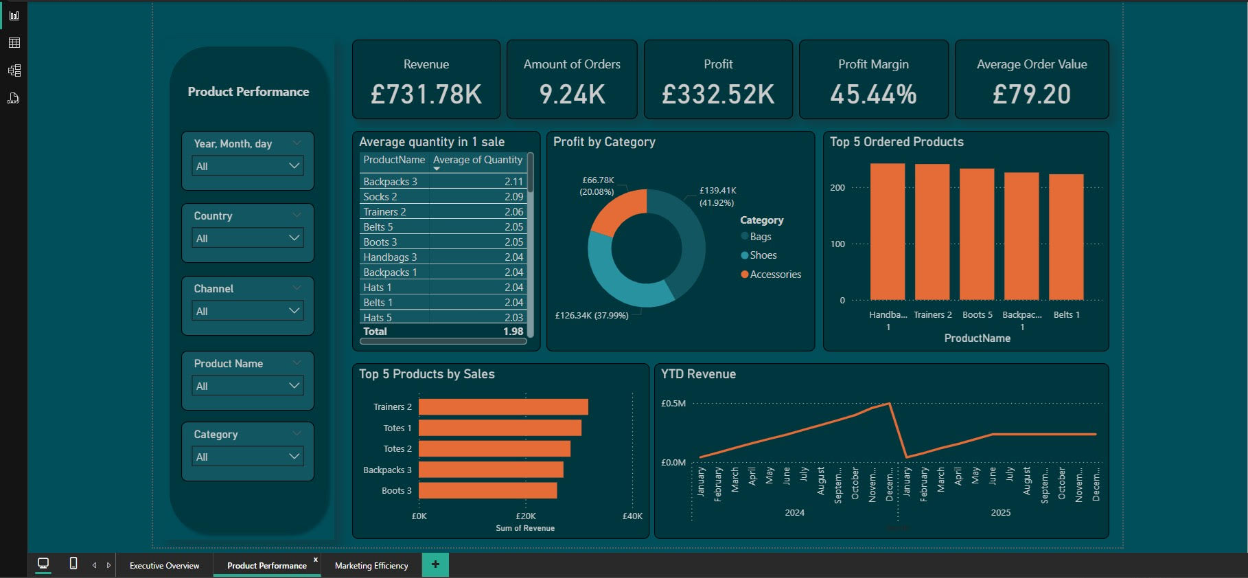

What the dashboard file says about the page in this screenshot:
{"tool":"powerbi","page":{"name":"Product Performance","canvas":[1280,720],"ordinal":1},"visuals":[{"type":"shape","box":[12.6,49.6,226.6,660.4],"z":0},{"type":"slicer","title":"Date","fields":{"Values":["DimDate.Year Hierarchy.Year","DimDate.Year Hierarchy.Month","DimDate.Year Hierarchy.day"]},"box":[37.2,170.5,175.9,78.9],"z":1000},{"type":"slicer","fields":{"Values":["ecom_orders.Country"]},"box":[37.2,265.7,175.9,78.9],"z":2000},{"type":"slicer","fields":{"Values":["ecom_orders.Channel"]},"box":[37.2,361.8,175.9,78.9],"z":3000},{"type":"slicer","fields":{"Values":["ecom_products.ProductName"]},"box":[37.2,460.7,175.9,78.9],"z":4000},{"type":"slicer","fields":{"Values":["ecom_products.Category"]},"box":[37.2,554.1,175.9,78.9],"z":5000},{"type":"textbox","box":[26.3,102.1,199.4,45.7],"z":6000},{"type":"clusteredBarChart","title":"Top 5 Products by Sales","fields":{"Category":["ecom_products.ProductName"],"Y":["Sum(ecom_orders.Revenue)"]},"box":[262.6,476.6,392.9,232.5],"z":8000},{"type":"clusteredColumnChart","title":"Top 5 Ordered Products","fields":{"Category":["ecom_products.ProductName"],"Y":["CountNonNull(ecom_orders.OrderID)"]},"box":[885.1,170.2,378.4,290.8],"z":9000},{"type":"cardVisual","fields":{"Data":["Count(ecom_orders.OrderID)"]},"box":[466.9,49.6,173.1,105],"z":10000},{"type":"cardVisual","fields":{"Data":["ecom_orders.Profit"]},"box":[648.8,49.6,197.4,105],"z":11000},{"type":"cardVisual","fields":{"Data":["ecom_orders.Profit Margin"]},"box":[853.3,49.9,197.7,105.2],"z":12000},{"type":"cardVisual","fields":{"Data":["Sum(ecom_orders.Revenue)"]},"box":[262.6,49.6,196.5,105],"z":13000},{"type":"tableEx","title":"Average quantity in 1 sale","fields":{"Values":["ecom_products.ProductName","Avg(ecom_orders.Quantity)"]},"box":[262.6,170.2,249,290.8],"z":14000},{"type":"cardVisual","fields":{"Data":["ecom_orders.Average Order Value"]},"box":[1059.2,49.6,204.3,105],"z":15000},{"type":"donutChart","fields":{"Y":["ecom_orders.Profit"],"Category":["ecom_products.Category"]},"box":[519.4,170.2,355,290.8],"z":16000},{"type":"lineChart","title":"YTD Revenue","fields":{"Category":["DimDate.Year","DimDate.Month"],"Y":["ecom_orders.YTD Revenue"]},"box":[662.4,476.6,601.1,232.5],"z":17000}]}

Visuals, with their boxes on the page's 1280x720 design canvas (x1, y1, x2, y2). These are canvas units, not pixel positions in the 1248x578 screenshot, which may show the page scaled, cropped or inside an application window:
shape: <box>13,50,239,710</box>
"Date" slicer: <box>37,170,213,249</box>
slicer - ecom_orders.Country: <box>37,266,213,345</box>
slicer - ecom_orders.Channel: <box>37,362,213,441</box>
slicer - ecom_products.ProductName: <box>37,461,213,540</box>
slicer - ecom_products.Category: <box>37,554,213,633</box>
textbox: <box>26,102,226,148</box>
"Top 5 Products by Sales" clusteredBarChart: <box>263,477,656,709</box>
"Top 5 Ordered Products" clusteredColumnChart: <box>885,170,1264,461</box>
cardVisual - Count(ecom_orders.OrderID): <box>467,50,640,155</box>
cardVisual - ecom_orders.Profit: <box>649,50,846,155</box>
cardVisual - ecom_orders.Profit Margin: <box>853,50,1051,155</box>
cardVisual - Sum(ecom_orders.Revenue): <box>263,50,459,155</box>
"Average quantity in 1 sale" tableEx: <box>263,170,512,461</box>
cardVisual - ecom_orders.Average Order Value: <box>1059,50,1264,155</box>
donutChart - ecom_orders.Profit x ecom_products.Category: <box>519,170,874,461</box>
"YTD Revenue" lineChart: <box>662,477,1264,709</box>
